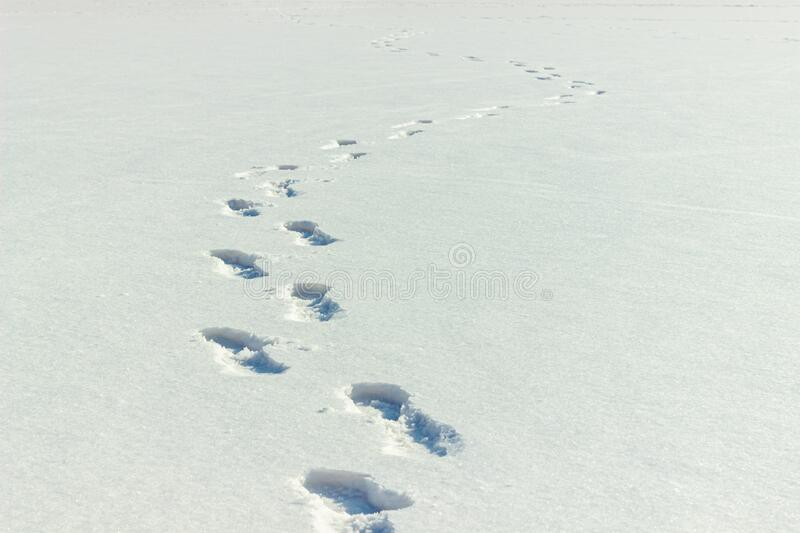human_footprint: (328, 375, 483, 458), (287, 462, 422, 526), (186, 328, 289, 384), (283, 271, 352, 321), (202, 244, 272, 280), (278, 212, 342, 245), (225, 196, 258, 219)
